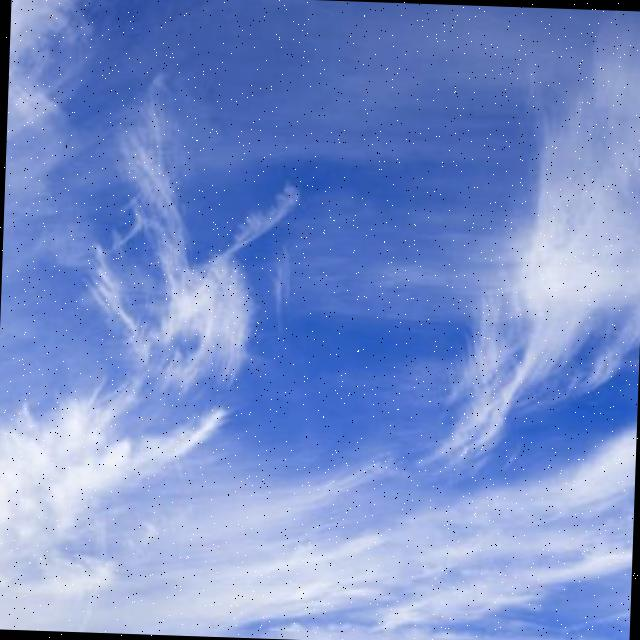Ci: (1, 1, 640, 585)
